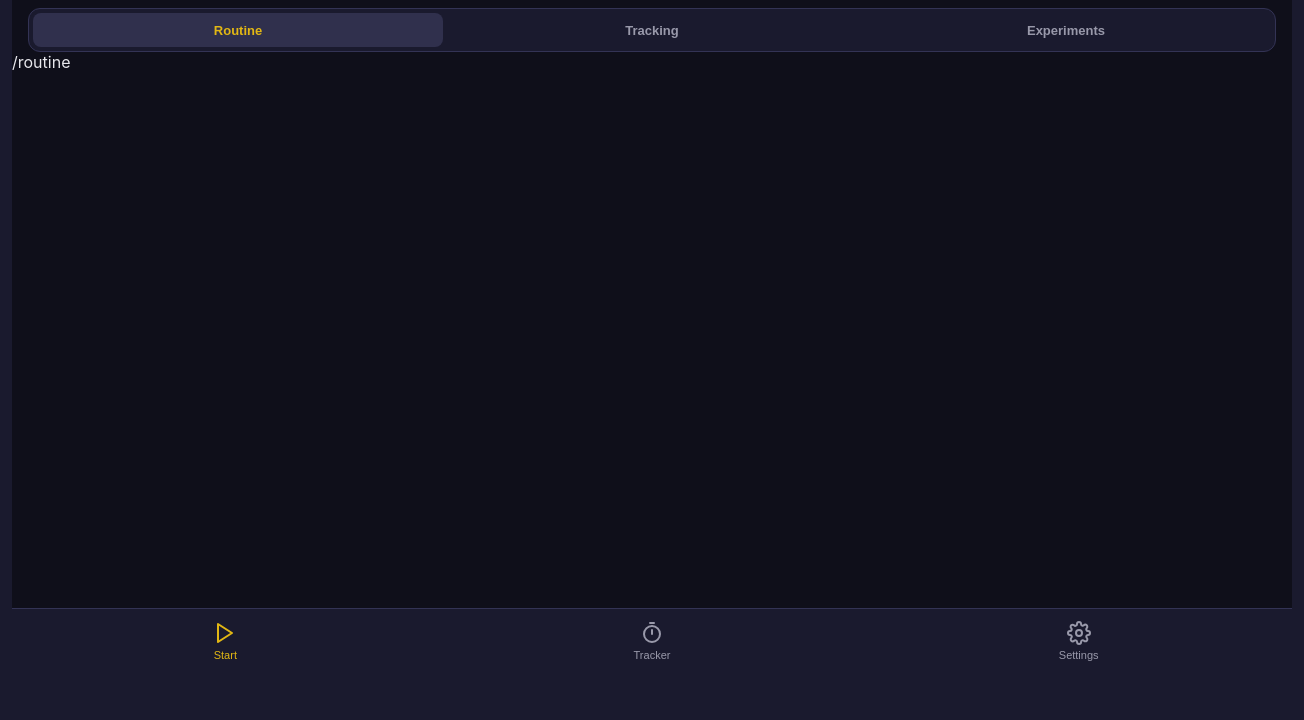
app shell › switching back restores the last-visited tab of that app
What coordinates should you click on to do the following:
click the button "Tracking"
I would click on:
 (652, 30)
Its box is [447, 13, 857, 47].
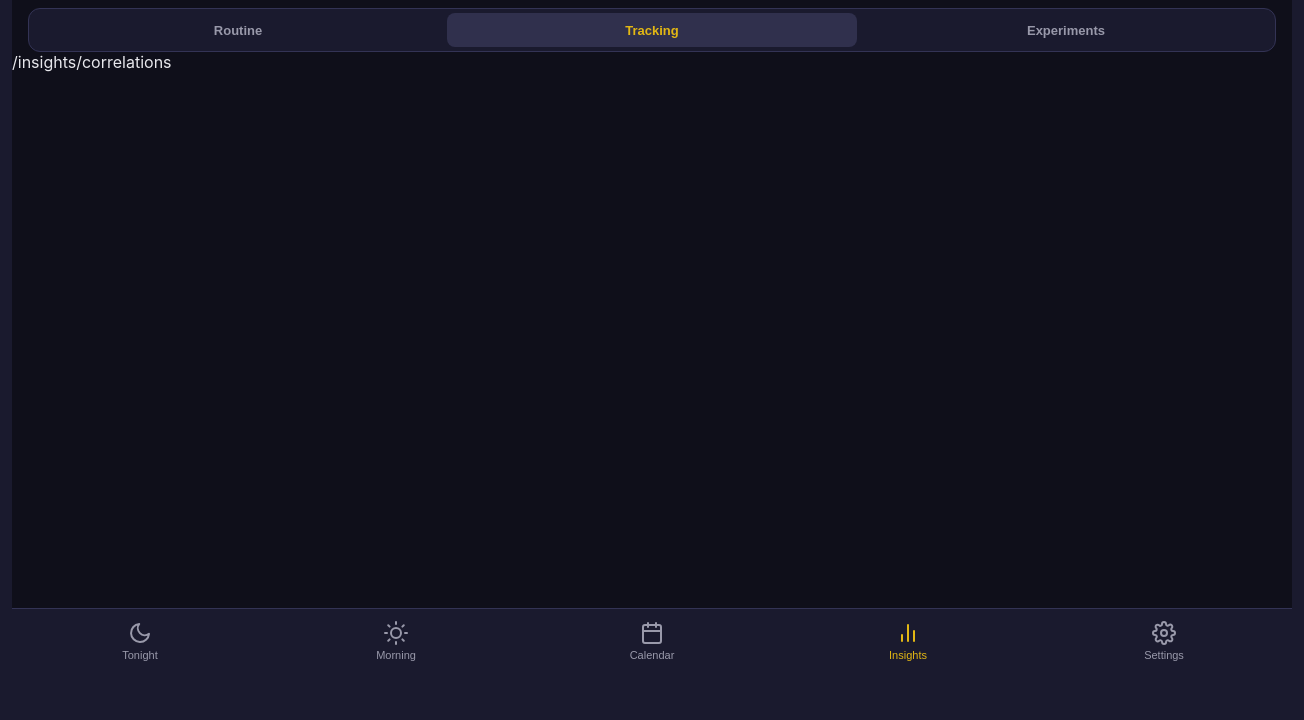
Check: the text with test id "loc" reads "/insights/correlations", box [12, 52, 172, 72]
